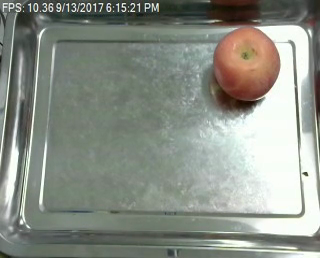Apple: (214, 25, 280, 102)
